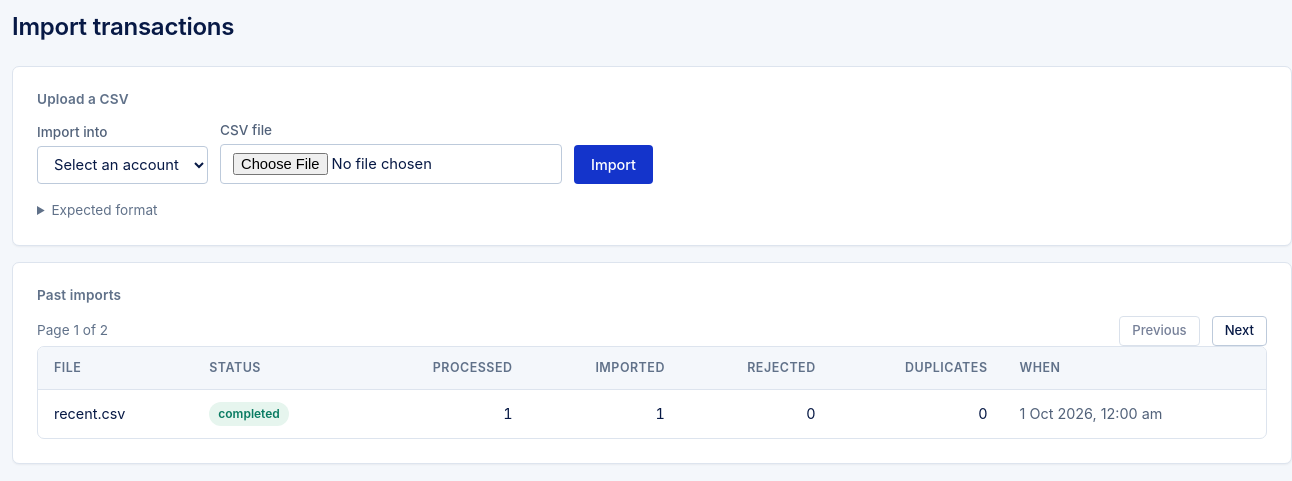
Test: CSV imports › lets the user reach imports beyond the first page
The image size is (1292, 481).
Expected: the text "recent.csv" is shown, [38,390,193,438]
Click the button "Next": (1239, 331) [1212,316,1267,346]
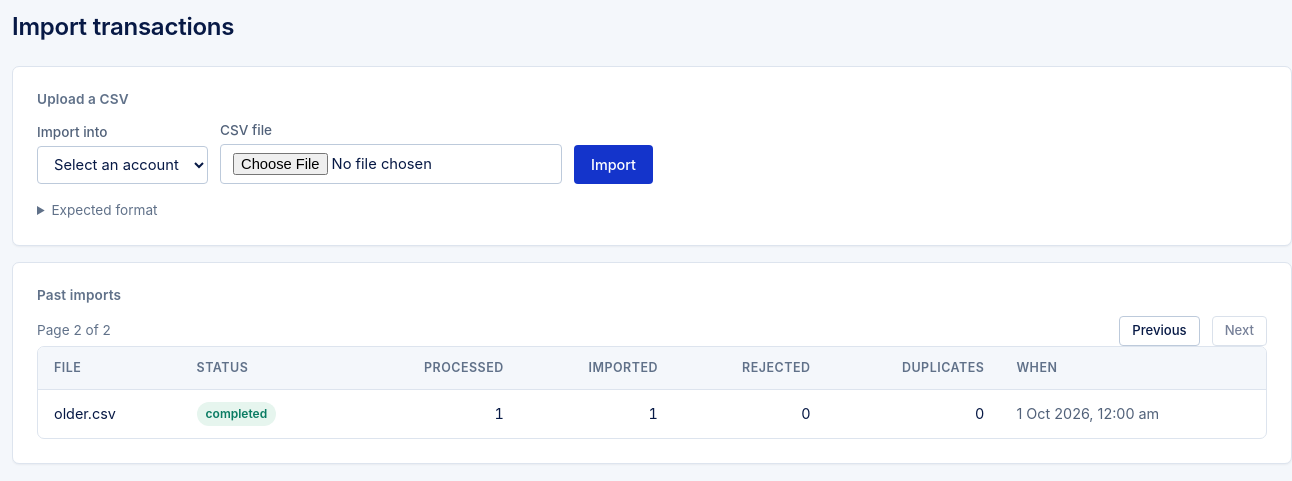
Expected: the text "older.csv" is shown, [38,390,181,438]
Expected: the button "Next" is disabled, [1212,316,1267,346]
Click the button "Previous": (1160, 331) [1119,316,1200,346]
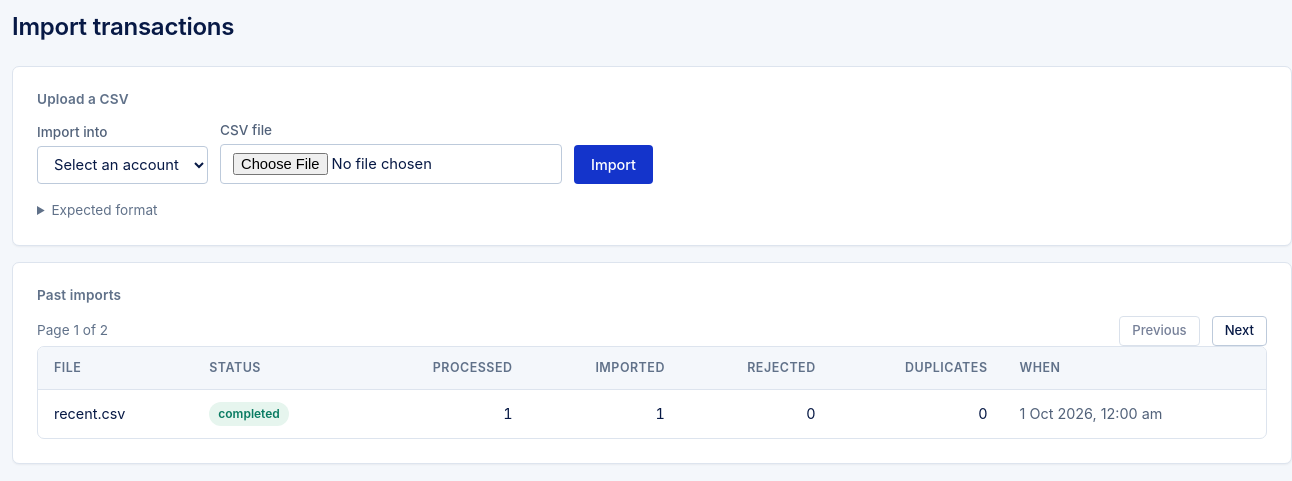
Expected: the text "recent.csv" is shown, [38,390,193,438]
